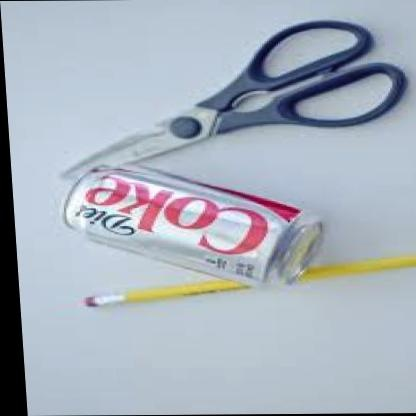trash: (65, 165, 321, 283)
